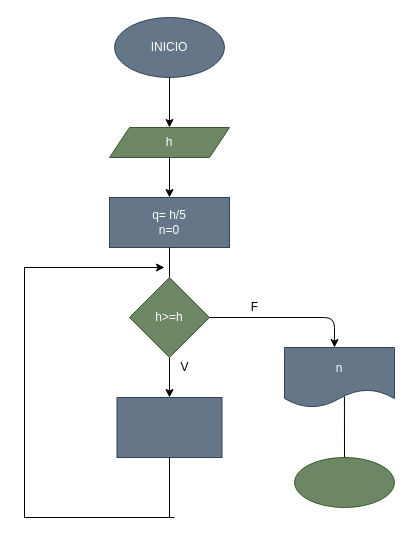
Image size: 412x536. Some labels were removed from this diagram. The shapes that lost their labels are listed below. From the top down, each one's centre as x and y in pixels, then its label:
(x=169, y=427): h= 0.9*h n= n+1
(x=344, y=482): FIN
